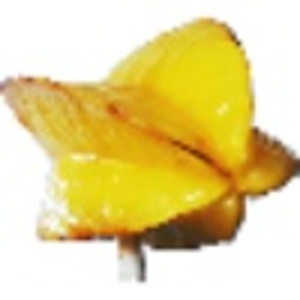carambola: (1, 15, 300, 281)
